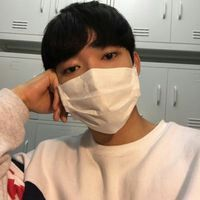face_mask: (56, 27, 133, 121)
